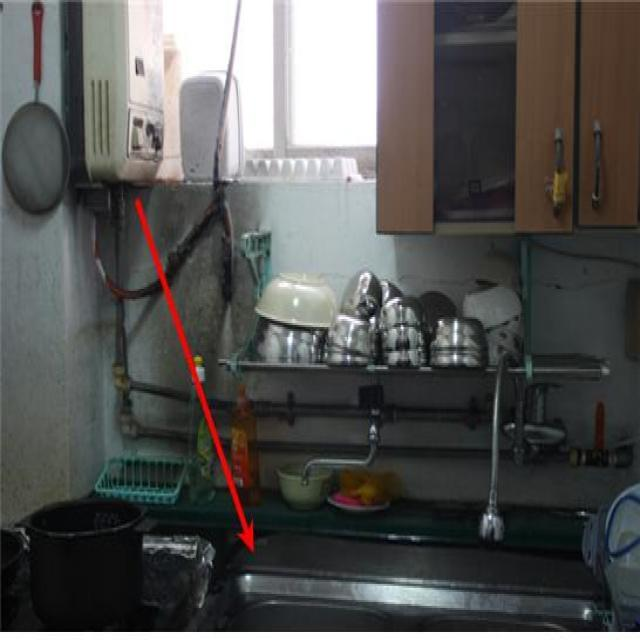Boiler: (49, 0, 179, 216)
